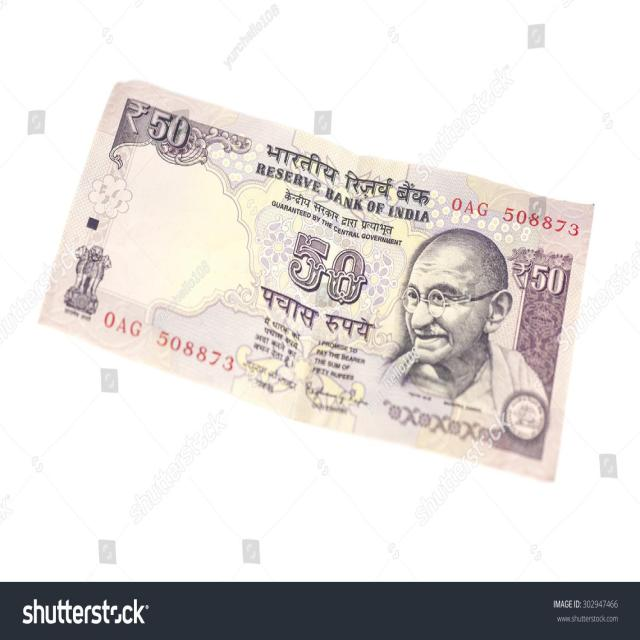50IndianRupees: (58, 72, 602, 483)
